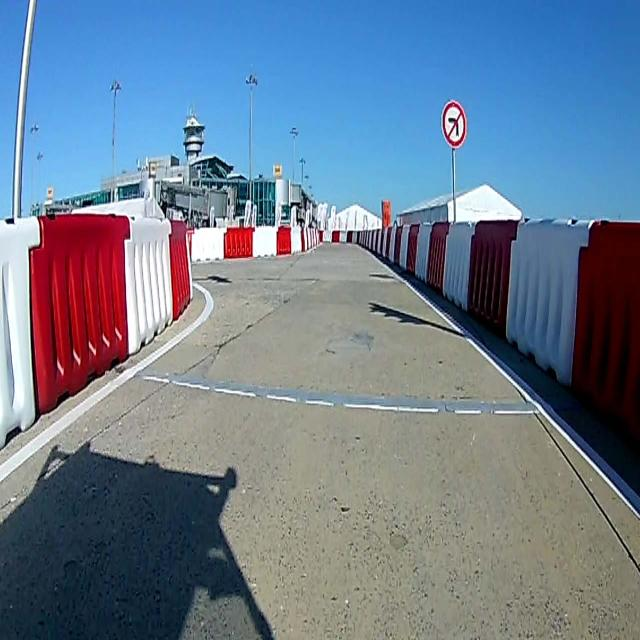soladonulmez: (442, 101, 466, 147)
